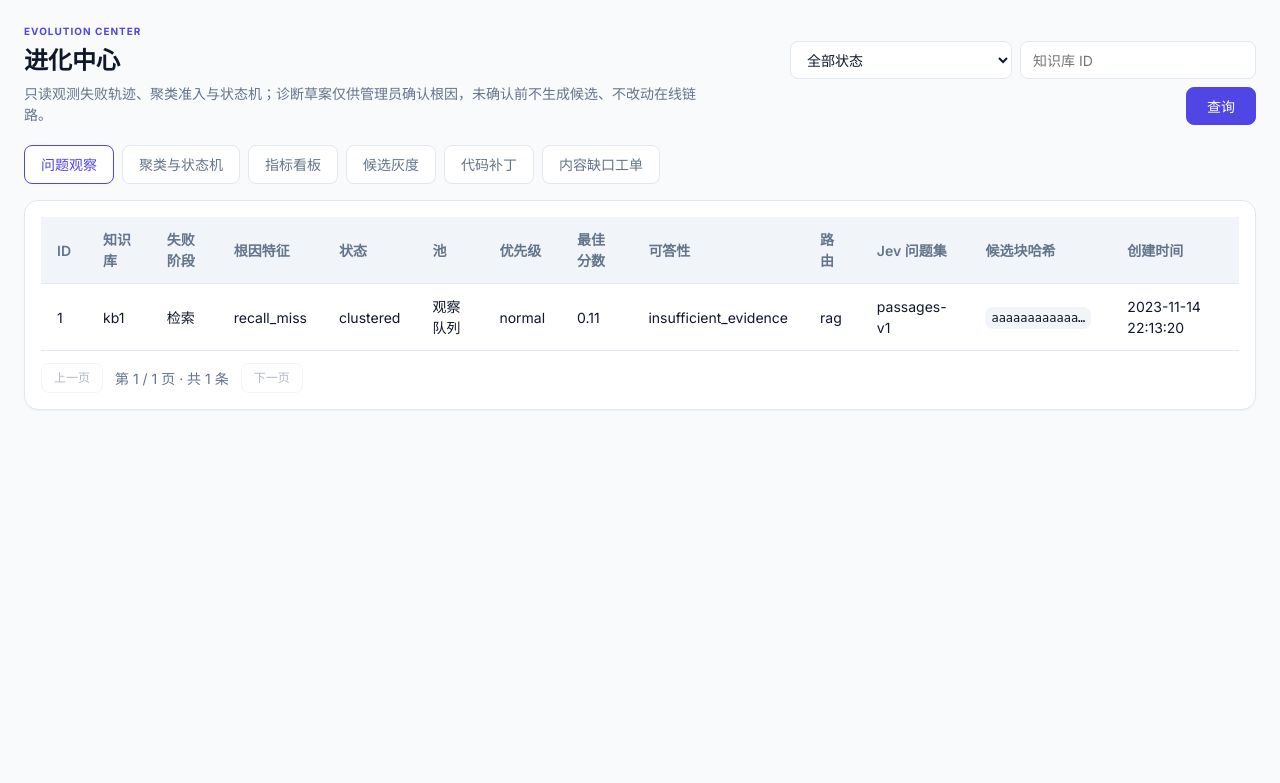
Test: EvolutionCenterView › groups clusters by pool and opens one candidate cluster
Click the button with test id "tab-clusters" at point(181, 164), box [122,145,240,184]
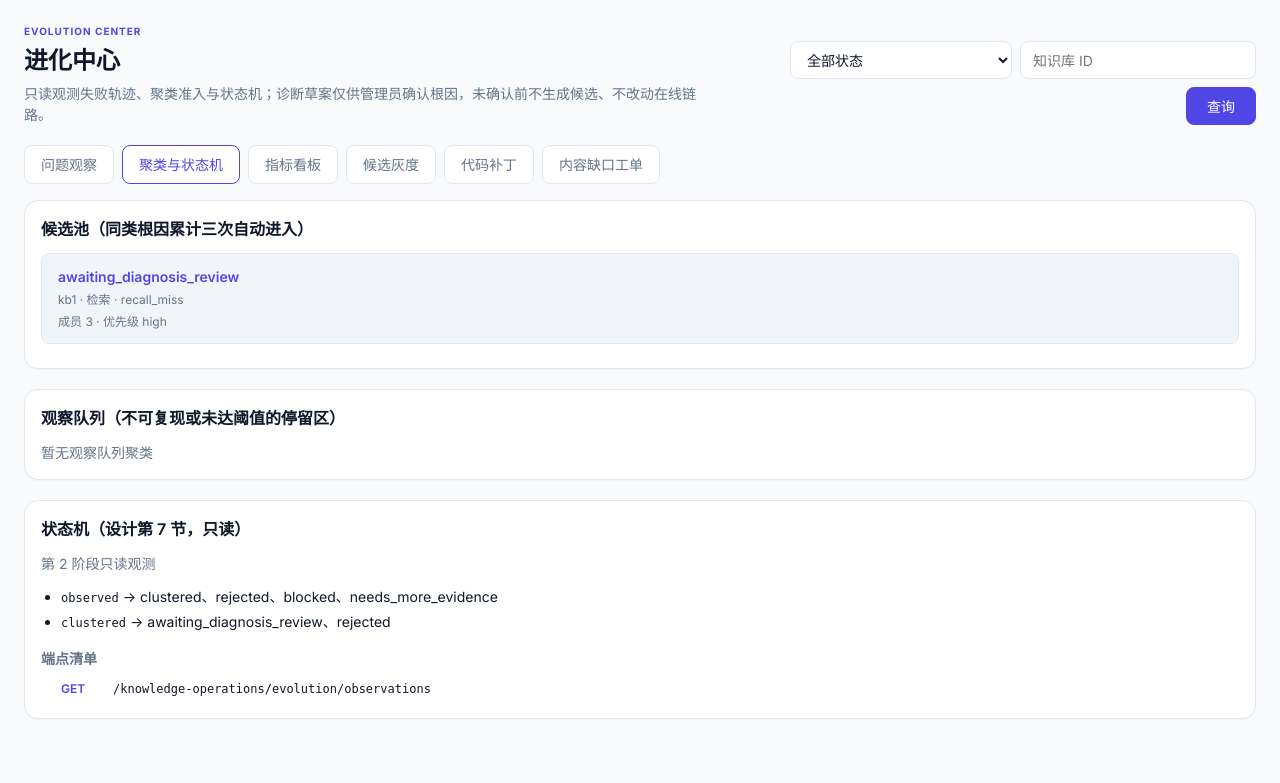
Result: the element with test id "candidate-pool" shows "awaiting_diagnosis_review"
Result: the element with test id "candidate-pool" shows "3"
Result: the element with test id "observation-queue" shows "暂无观察队列聚类" at [41,444,153,461]
Click the button with test id "cluster-card" at point(149, 276), box [41,253,1239,344]
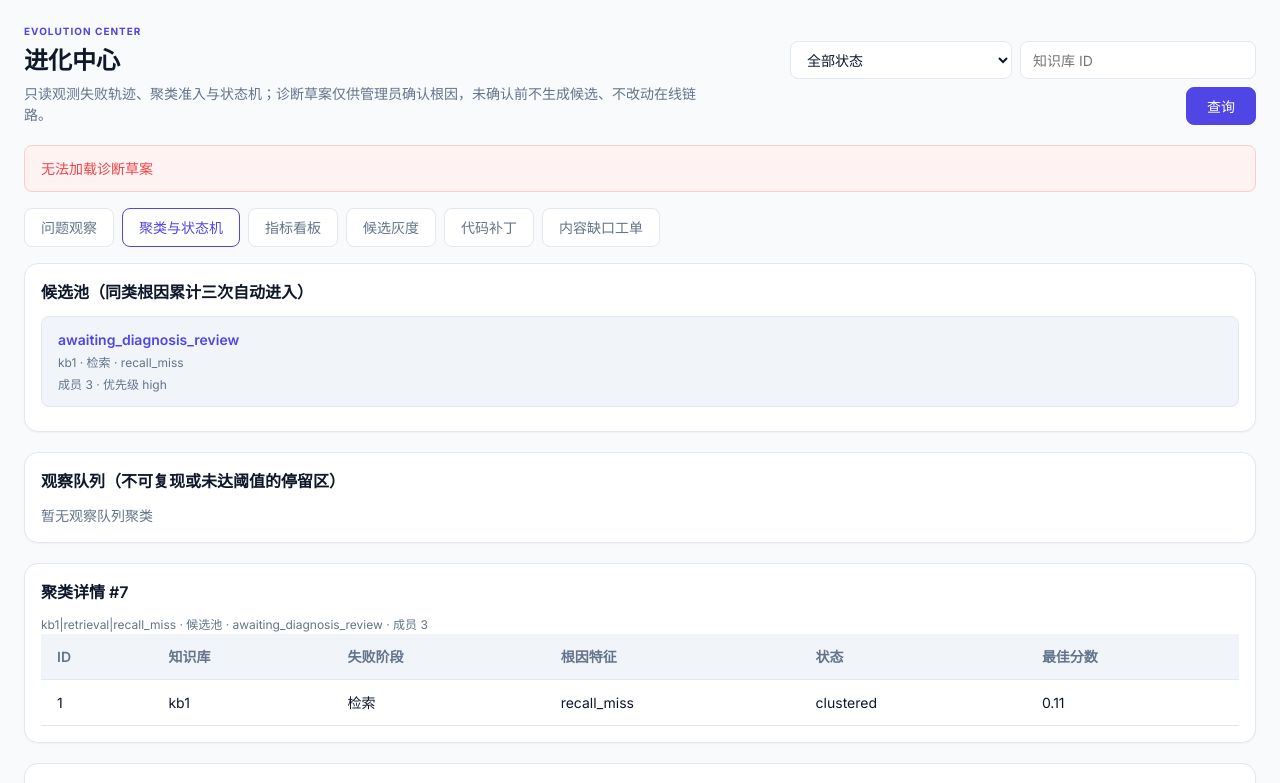
Result: the element with test id "cluster-detail" shows "awaiting_diagnosis_review" at [41,617,428,632]
Result: the element with test id "cluster-detail" shows "recall_miss" at [561,694,634,711]
